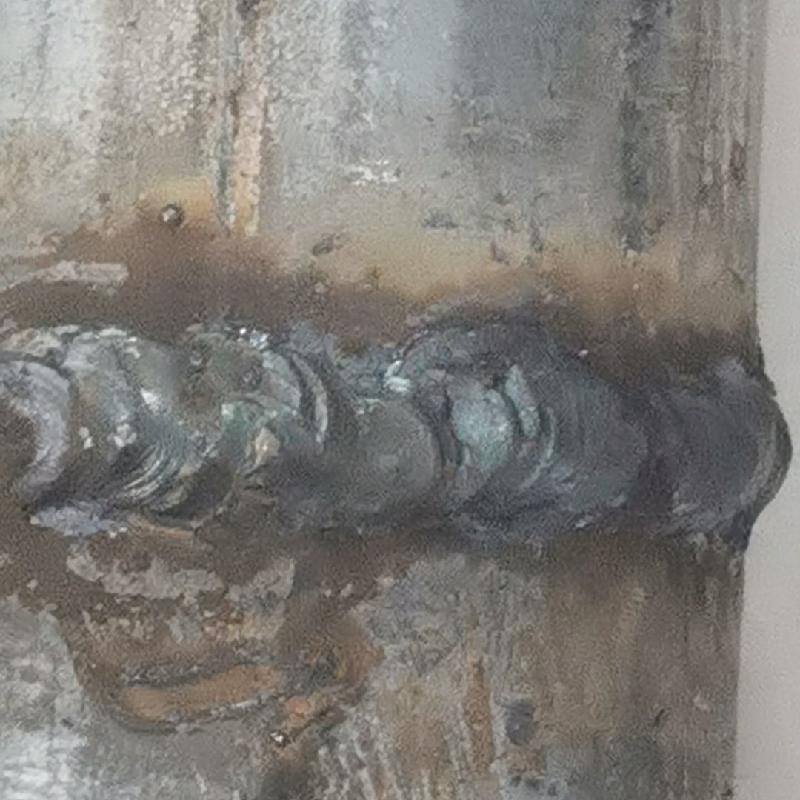good: (2, 317, 793, 572)
